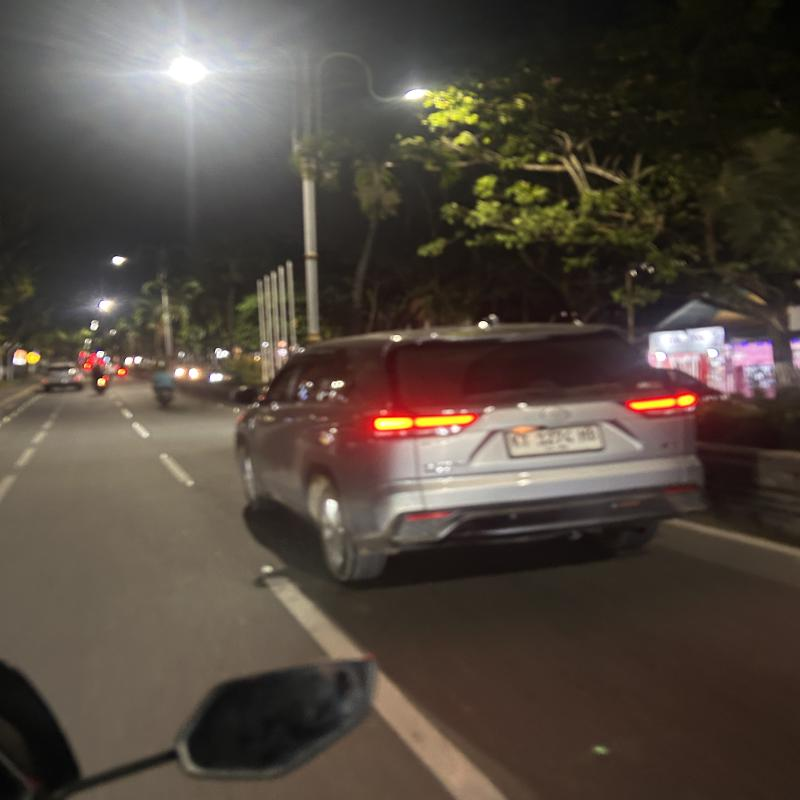license plate on a car: (508, 419, 607, 457)
